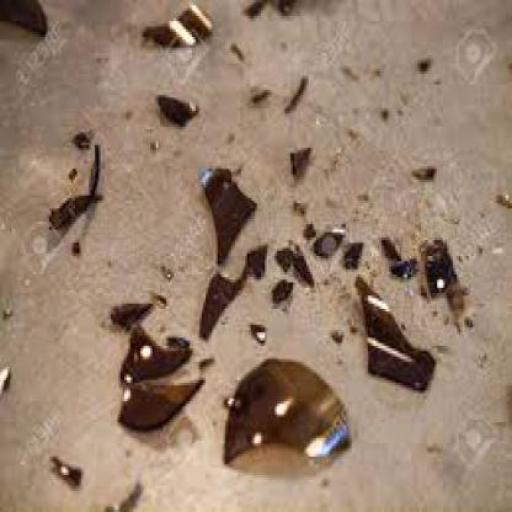glass: (223, 354, 348, 462), (354, 272, 432, 385), (195, 160, 259, 262), (116, 380, 208, 428), (117, 324, 192, 378), (142, 2, 214, 48), (198, 269, 243, 338), (414, 230, 456, 296), (152, 92, 196, 127), (0, 0, 48, 32), (286, 238, 315, 288), (48, 190, 96, 219), (110, 298, 152, 325), (106, 478, 141, 510), (49, 451, 79, 486), (310, 224, 342, 256), (282, 74, 308, 113), (242, 237, 264, 277), (240, 0, 294, 16), (447, 280, 464, 319), (340, 234, 362, 264), (390, 251, 416, 275), (379, 232, 398, 262), (289, 140, 308, 169), (269, 274, 289, 301), (88, 144, 98, 192), (274, 242, 290, 272), (247, 322, 265, 343), (251, 82, 271, 100), (71, 127, 93, 143), (227, 42, 243, 64), (338, 61, 357, 79), (0, 358, 9, 394), (411, 167, 437, 179), (492, 192, 510, 208), (302, 219, 315, 240), (166, 330, 186, 343), (293, 193, 306, 211), (150, 290, 164, 306), (417, 53, 431, 69), (66, 166, 77, 185), (198, 351, 211, 367), (377, 103, 390, 119), (160, 264, 174, 278), (330, 327, 340, 346), (69, 238, 79, 254), (346, 124, 358, 137), (2, 301, 12, 314), (372, 63, 378, 77), (465, 314, 468, 325)
